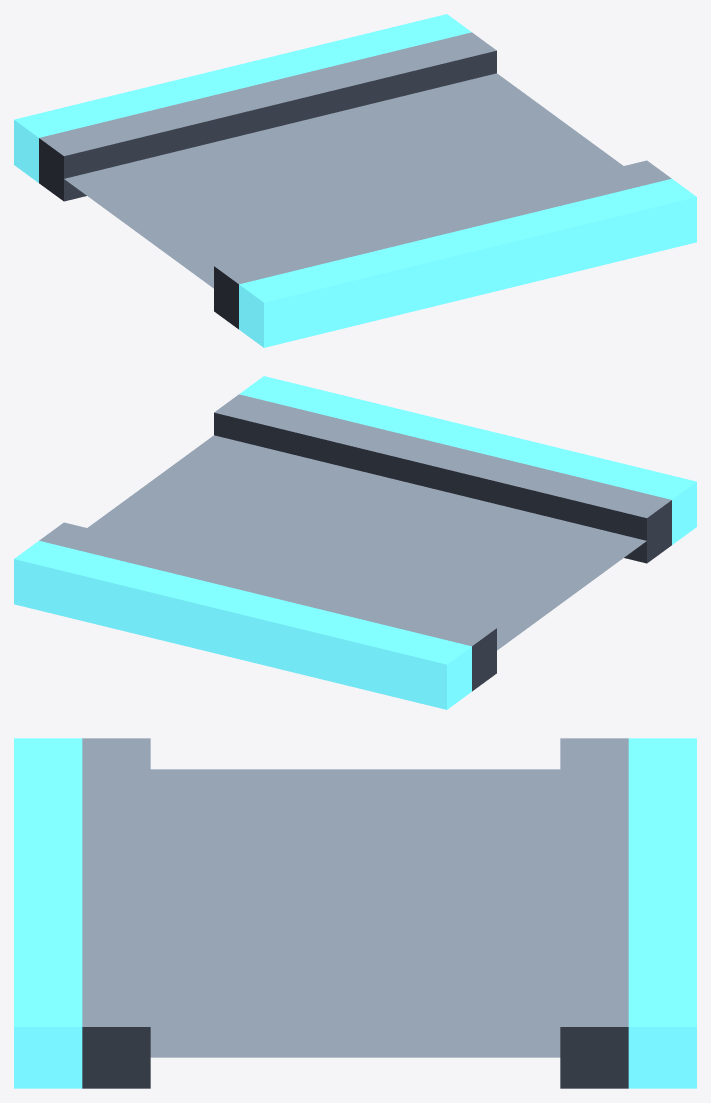
The model's file is platform_straight.glb.
The picture shows the model from 3 angles, top to bottom: view 1: azimuth 30°, elevation 25°; view 2: azimuth 150°, elevation 25°; view 3: azimuth 270°, elevation 25°; orthographic projection. The views are drawn at different scales.
Parts seen in each view (by area): view 1: platform_straight; view 2: platform_straight; view 3: platform_straight.
Part boxes in pixels (x1,y1,x2,y2): platform_straight: (14, 14, 696, 347); platform_straight: (14, 376, 696, 709); platform_straight: (14, 738, 696, 1088).
Size of the model in its own units: 1 by 0.1 by 1.
